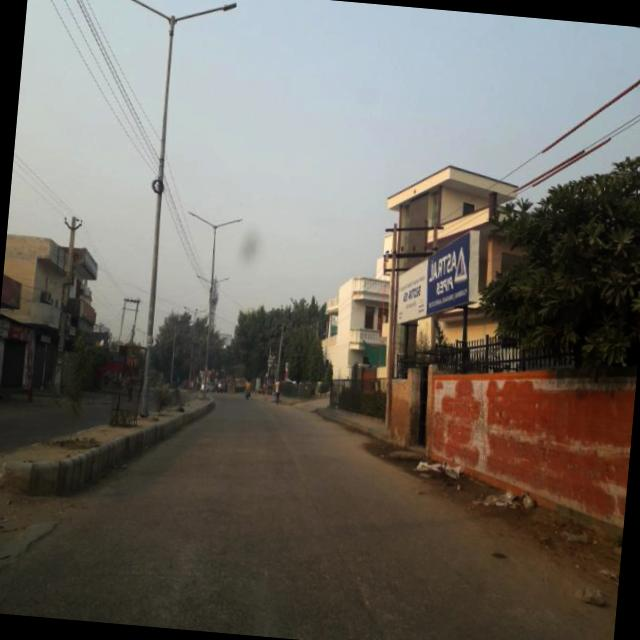pothole: (0, 506, 65, 610)
